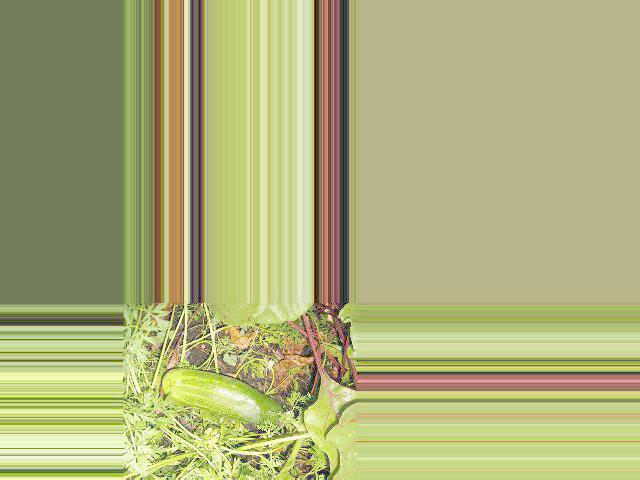cucumber: (164, 368, 284, 427)
